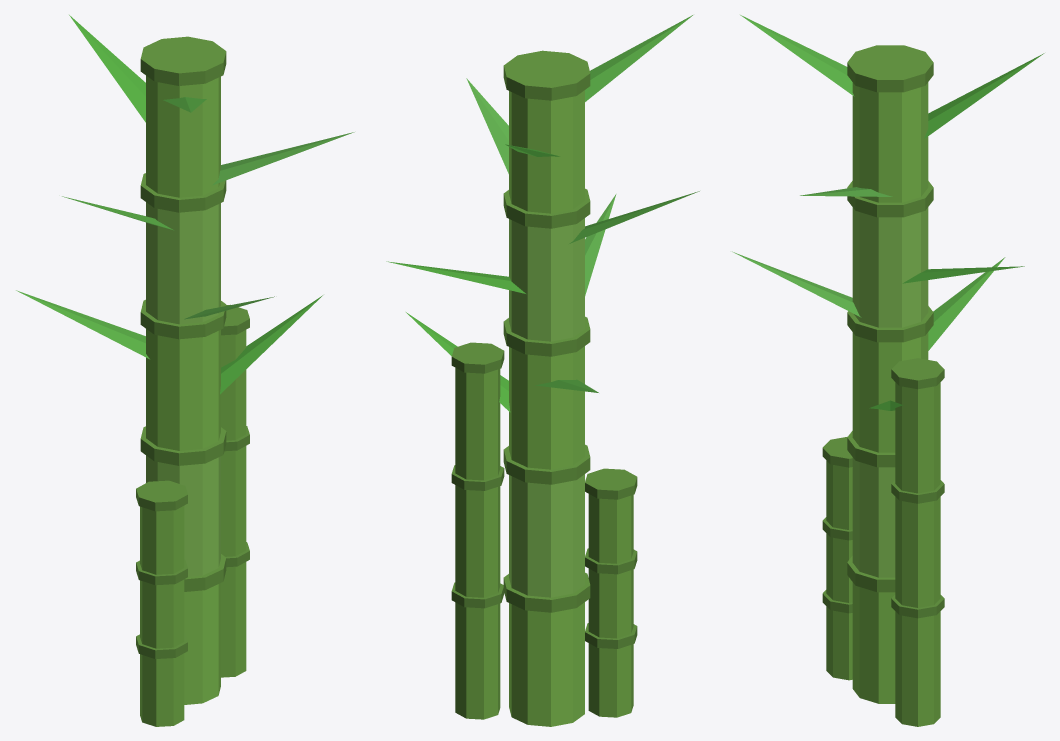
Rendered from Planta_Bamboo.fbx.
The picture shows the model from 3 angles, left to right: view 1: azimuth 30°, elevation 25°; view 2: azimuth 150°, elevation 25°; view 3: azimuth 270°, elevation 25°; orthographic projection. The views are drawn at different scales.
Visible parts, largest first — view 1: Produto_Bamboo, Corpo_Bamboo; view 2: Produto_Bamboo, Corpo_Bamboo; view 3: Produto_Bamboo, Corpo_Bamboo.
Part boxes in pixels (<box>): Produto_Bamboo: <box>140,36,226,704</box>; Corpo_Bamboo: <box>16,15,354,726</box>; Produto_Bamboo: <box>503,50,590,726</box>; Corpo_Bamboo: <box>386,15,699,719</box>; Produto_Bamboo: <box>847,45,933,703</box>; Corpo_Bamboo: <box>732,15,1044,726</box>.
Size of the model in its own units: 2.31 by 5.15 by 2.29.
Materials: 1 (1 with a texture image).
